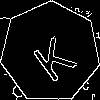K: (25, 27, 78, 84)
